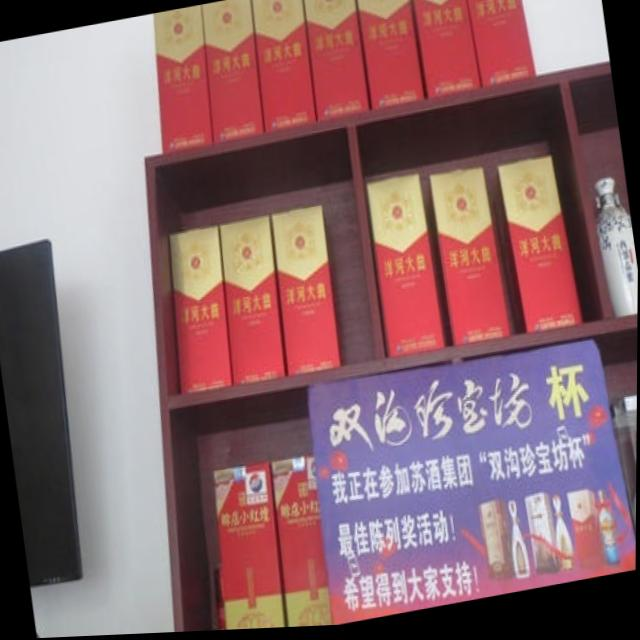box: (499, 160, 584, 337), (367, 178, 445, 361), (431, 172, 512, 347), (212, 464, 289, 632), (270, 208, 341, 377), (219, 219, 288, 386), (271, 457, 334, 630), (170, 229, 233, 394), (153, 7, 215, 153), (251, 0, 318, 131), (202, 0, 264, 141), (302, 0, 369, 119), (357, 0, 427, 110), (410, 0, 482, 100), (467, 0, 538, 89), (611, 402, 638, 532)
